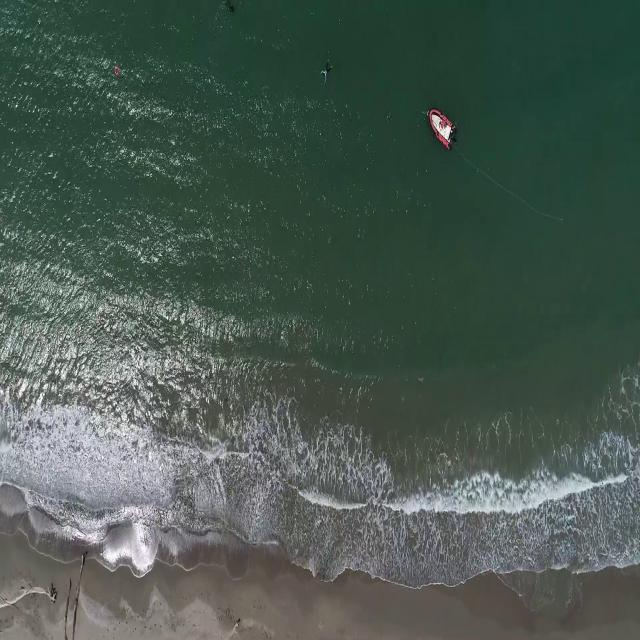boat: (429, 107, 456, 152)
life_buoy: (112, 66, 121, 78)
person: (320, 60, 334, 86), (224, 2, 239, 18)
wood: (65, 552, 86, 640), (176, 618, 243, 640), (0, 584, 61, 608)
